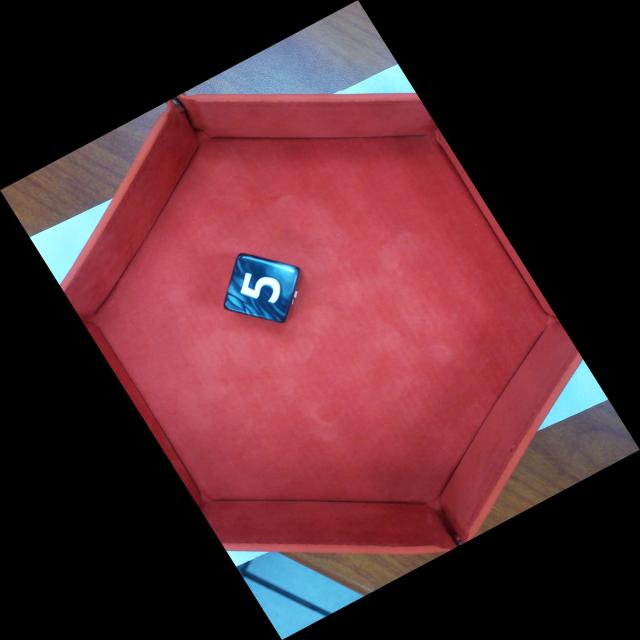dice: (225, 252, 300, 325)
